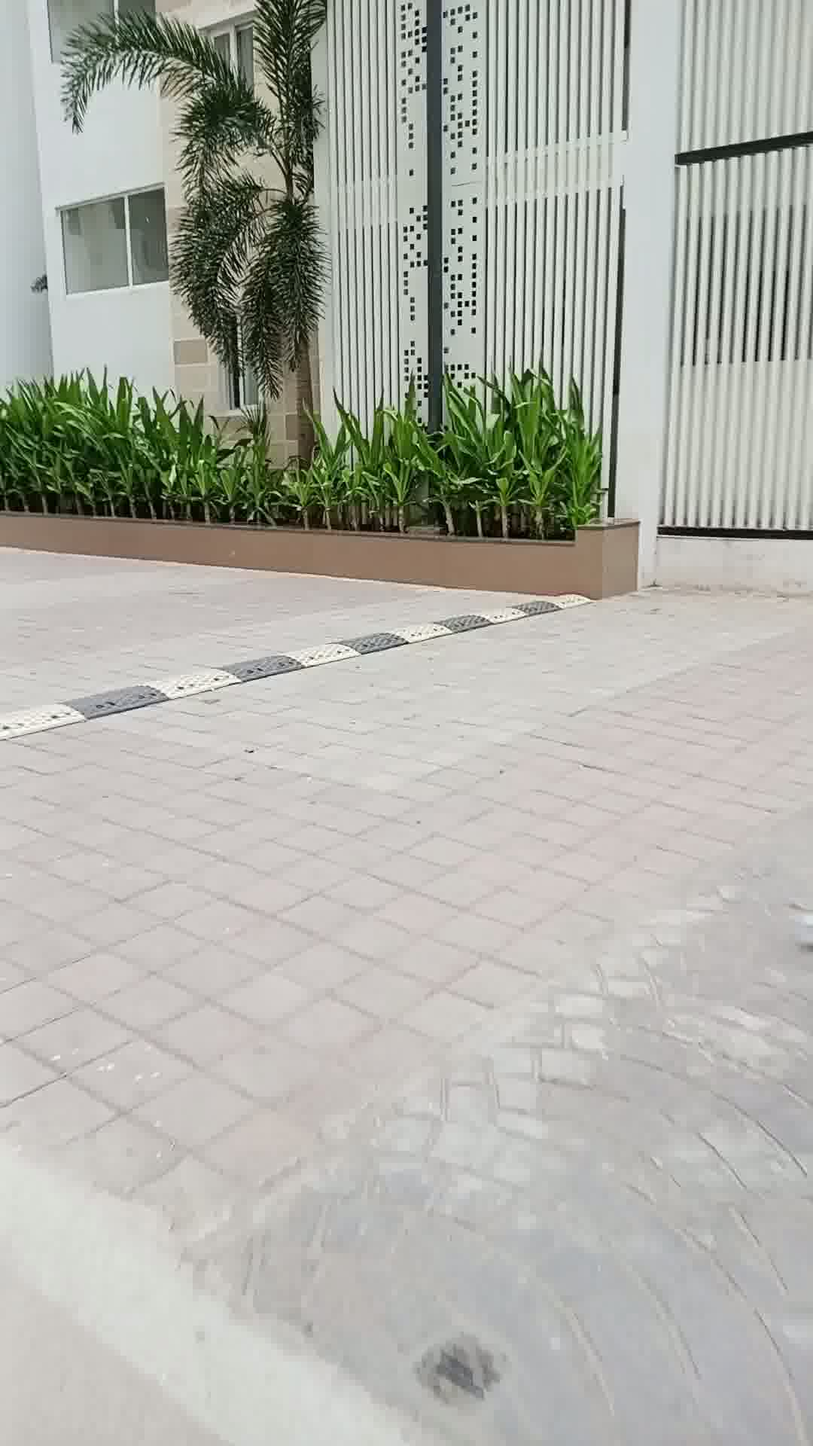tree: (48, 3, 413, 487)
